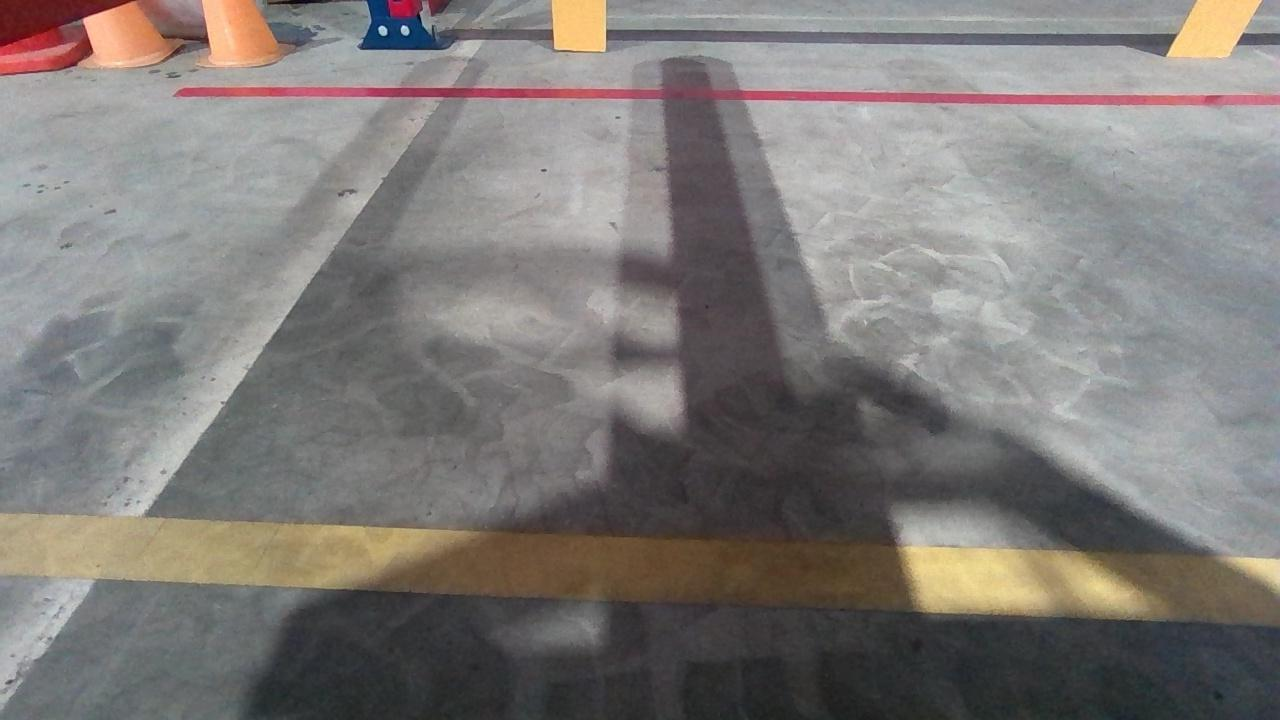orange_strip: (1165, 0, 1264, 58), (550, 1, 606, 50)
red_line: (160, 82, 1279, 106)
yellow_line: (1, 512, 1280, 618)
